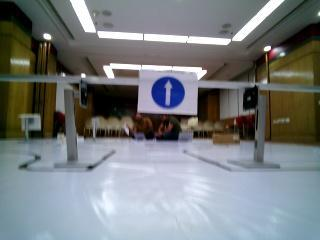straight: (139, 65, 197, 111)
